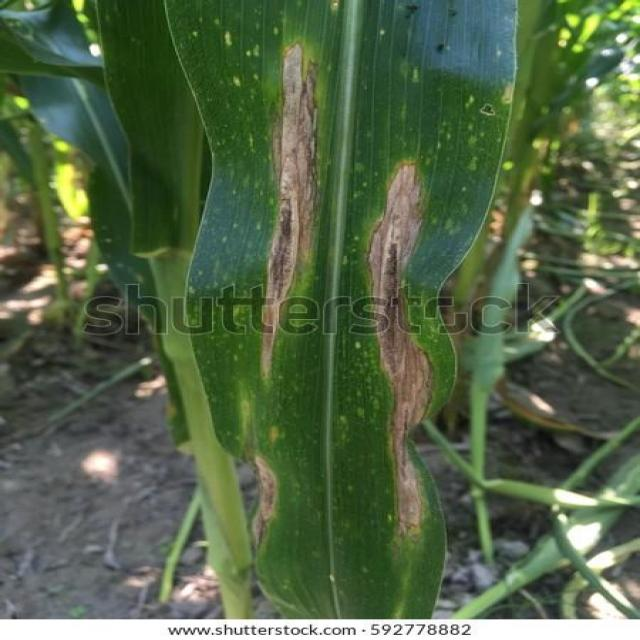blight: (244, 43, 335, 277)
